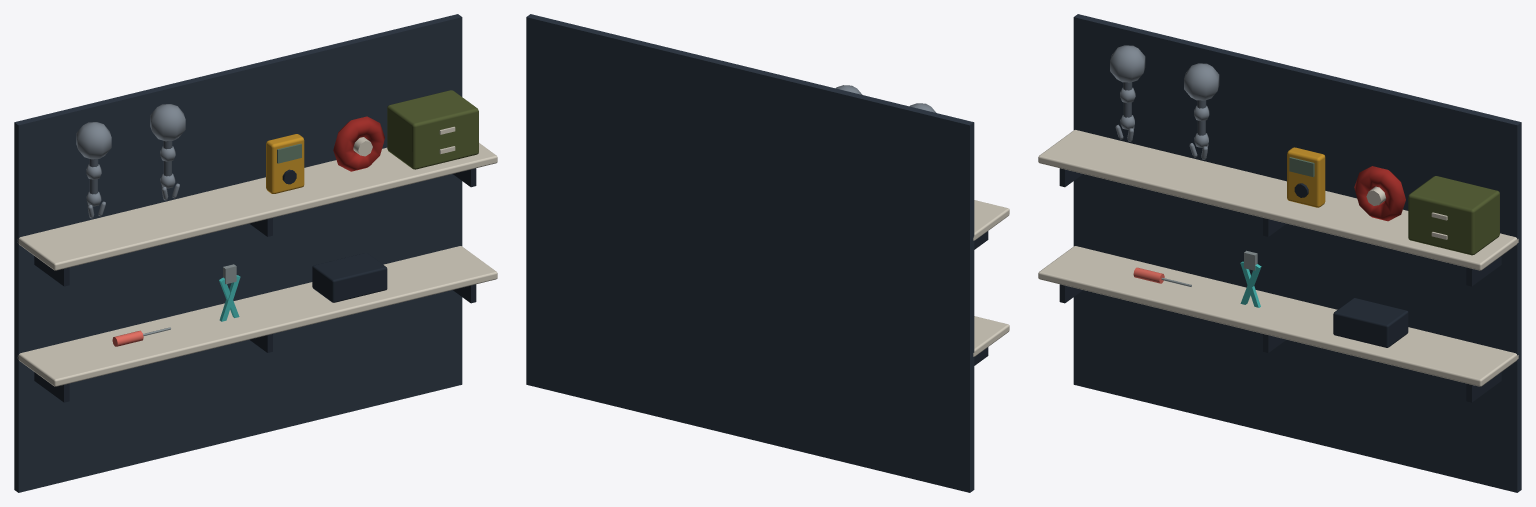
The model's file is prateleira_ferramentas.glb.
3 views of the same model, side by side, from view 1: azimuth 30°, elevation 25°; view 2: azimuth 150°, elevation 25°; view 3: azimuth 330°, elevation 25° (orthographic).
Parts seen in each view (by area): view 1: prateleira_malha; view 2: prateleira_malha; view 3: prateleira_malha.
Part boxes in pixels (x1,y1,x2,y2): prateleira_malha: (14, 14, 497, 492); prateleira_malha: (526, 14, 1009, 492); prateleira_malha: (1038, 14, 1521, 492).
Bounding box in the file's own units: 2.4 × 1.9 × 0.38.
